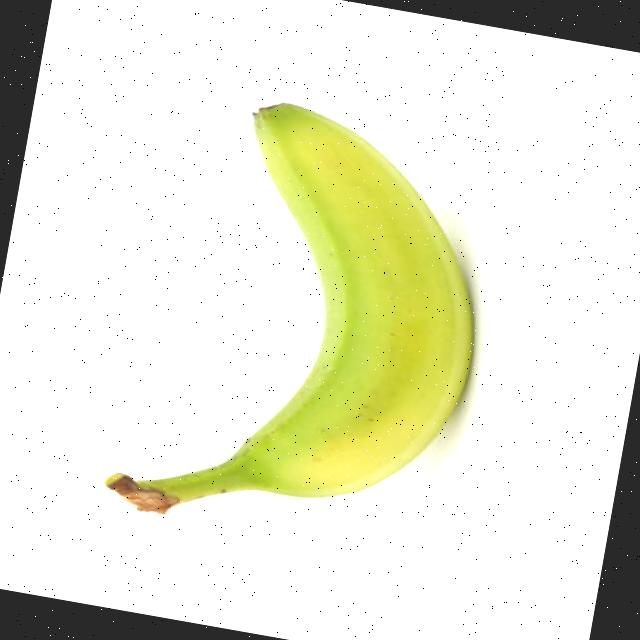banana: (101, 81, 510, 564)
